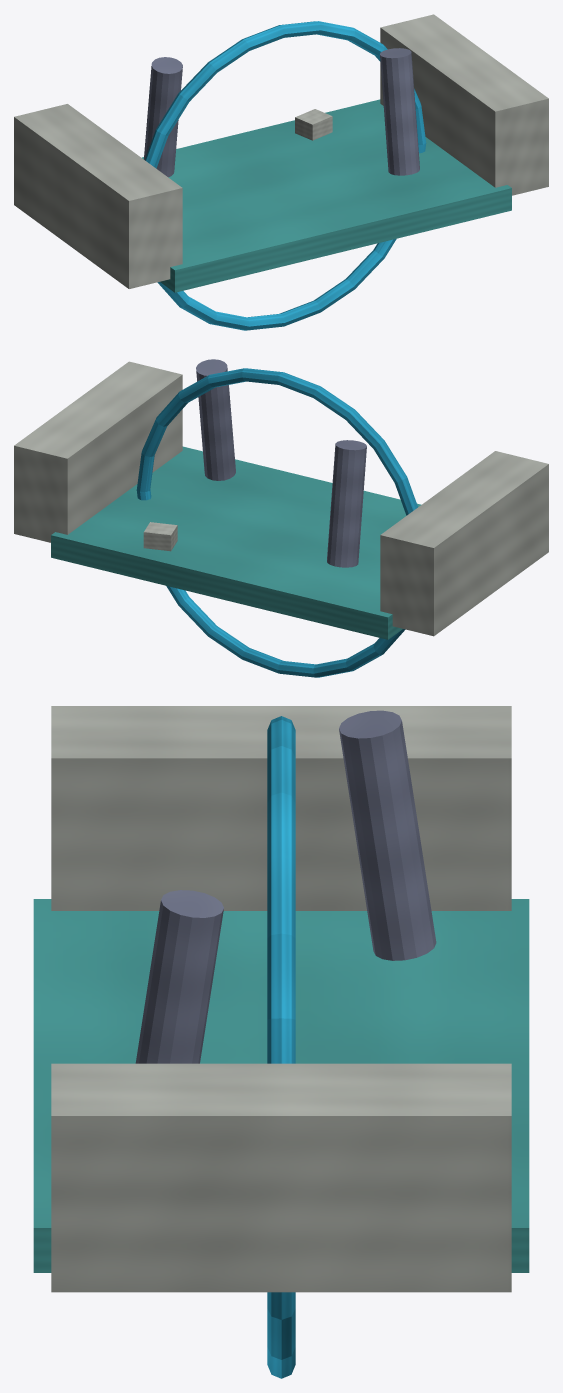
File: sunken-bastion.glb
The picture shows the model from 3 angles, top to bottom: view 1: azimuth 30°, elevation 25°; view 2: azimuth 150°, elevation 25°; view 3: azimuth 270°, elevation 25°; orthographic projection. The views are drawn at different scales.
Parts seen in each view (by area): view 1: bastion-flooded-floor, bastion-left-rampart, bastion-right-rampart, bastion-tide-ring, bastion-anchor-post-1, bastion-anchor-post-0, bastion-driftwood-crate; view 2: bastion-flooded-floor, bastion-left-rampart, bastion-right-rampart, bastion-tide-ring, bastion-anchor-post-0, bastion-anchor-post-1, bastion-driftwood-crate; view 3: bastion-right-rampart, bastion-left-rampart, bastion-flooded-floor, bastion-anchor-post-0, bastion-tide-ring, bastion-anchor-post-1.
Boxes of the visible parts, x1=… form: bastion-flooded-floor: x1=142, y1=99, x2=511, y2=292; bastion-left-rampart: x1=14, y1=104, x2=182, y2=288; bastion-right-rampart: x1=380, y1=14, x2=548, y2=195; bastion-tide-ring: x1=145, y1=21, x2=426, y2=330; bastion-anchor-post-1: x1=380, y1=48, x2=419, y2=175; bastion-anchor-post-0: x1=144, y1=57, x2=182, y2=177; bastion-driftwood-crate: x1=295, y1=109, x2=332, y2=140; bastion-flooded-floor: x1=51, y1=446, x2=421, y2=639; bastion-left-rampart: x1=380, y1=451, x2=548, y2=636; bastion-right-rampart: x1=14, y1=361, x2=182, y2=542; bastion-tide-ring: x1=136, y1=368, x2=417, y2=677; bastion-anchor-post-0: x1=327, y1=440, x2=366, y2=567; bastion-anchor-post-1: x1=196, y1=359, x2=235, y2=480; bastion-driftwood-crate: x1=143, y1=522, x2=177, y2=551; bastion-right-rampart: x1=51, y1=1063, x2=511, y2=1292; bastion-left-rampart: x1=51, y1=706, x2=511, y2=910; bastion-flooded-floor: x1=33, y1=899, x2=529, y2=1272; bastion-anchor-post-0: x1=339, y1=710, x2=436, y2=960; bastion-tide-ring: x1=267, y1=716, x2=295, y2=1378; bastion-anchor-post-1: x1=135, y1=890, x2=223, y2=1063.
Size of the model in its own units: 2.74 by 1.88 by 1.4.
Materials: 7 (7 with a texture image).
